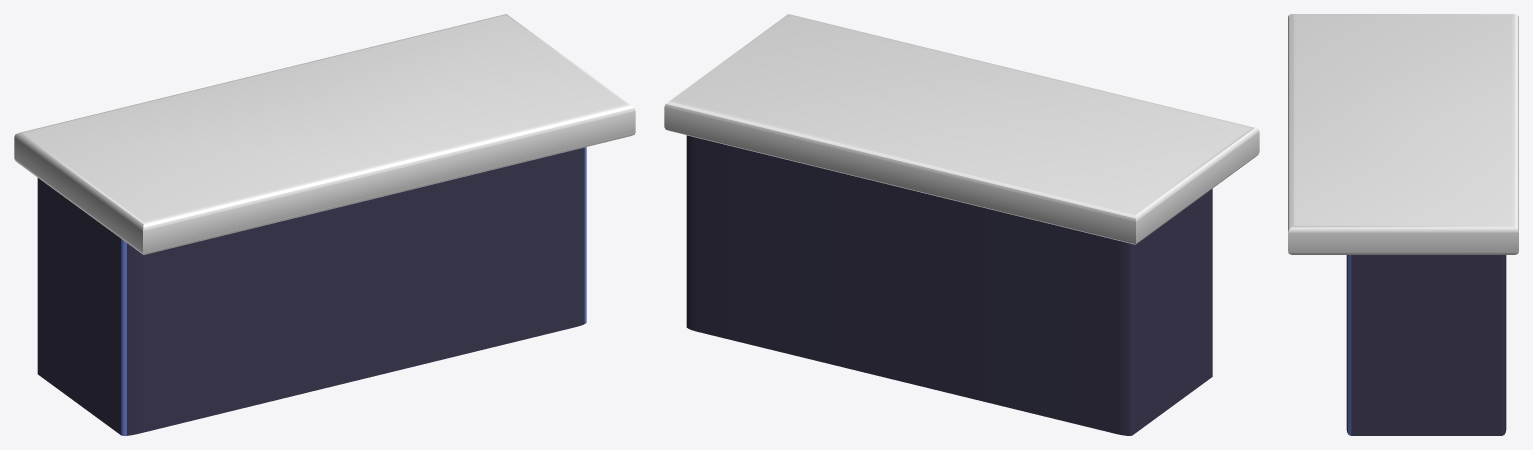
File: BarTable2.fbx
The picture shows the model from 3 angles, left to right: view 1: azimuth 30°, elevation 25°; view 2: azimuth 150°, elevation 25°; view 3: azimuth 270°, elevation 25°; orthographic projection. The views are drawn at different scales.
Visible parts, largest first — view 1: BarTableUnder, BarTableUp; view 2: BarTableUnder, BarTableUp; view 3: BarTableUp, BarTableUnder.
Boxes of the visible parts, x1,y1,x2,y2 form: BarTableUnder: (37, 147, 586, 435); BarTableUp: (14, 14, 635, 254); BarTableUnder: (686, 135, 1212, 435); BarTableUp: (664, 14, 1259, 244); BarTableUp: (1288, 14, 1518, 254); BarTableUnder: (1346, 255, 1506, 435).
Bounding box in the file's own units: 499 × 231 × 226.
